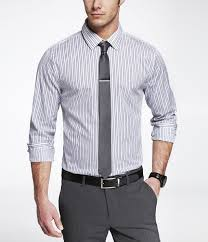F_belt: (55, 164, 153, 195)
F_dress pants: (54, 167, 159, 242)
F_shirt: (26, 25, 178, 178)
F_tie: (88, 36, 113, 173)
